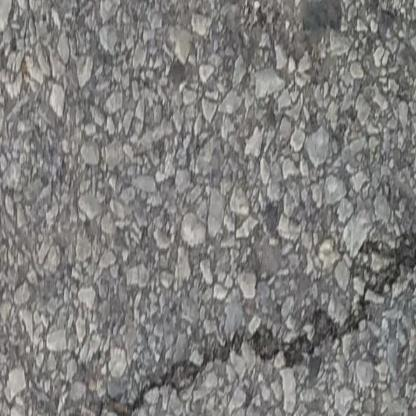Cracks: (60, 226, 416, 416)
